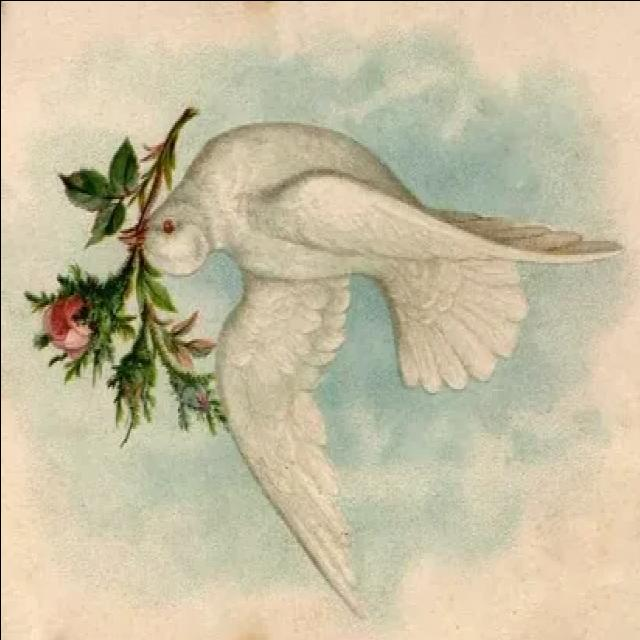pigeon: (117, 109, 630, 616)
